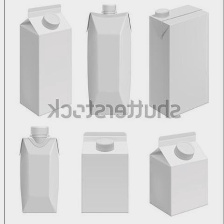carton: (145, 3, 215, 120), (8, 3, 74, 116), (143, 130, 211, 218), (83, 4, 135, 119), (76, 128, 135, 214), (14, 121, 61, 214)
